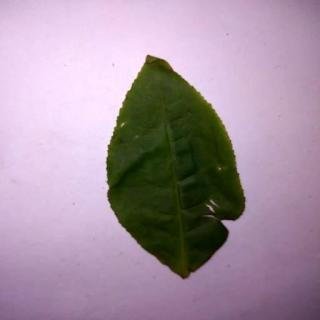Bird Eye Spot: (106, 56, 248, 279)
